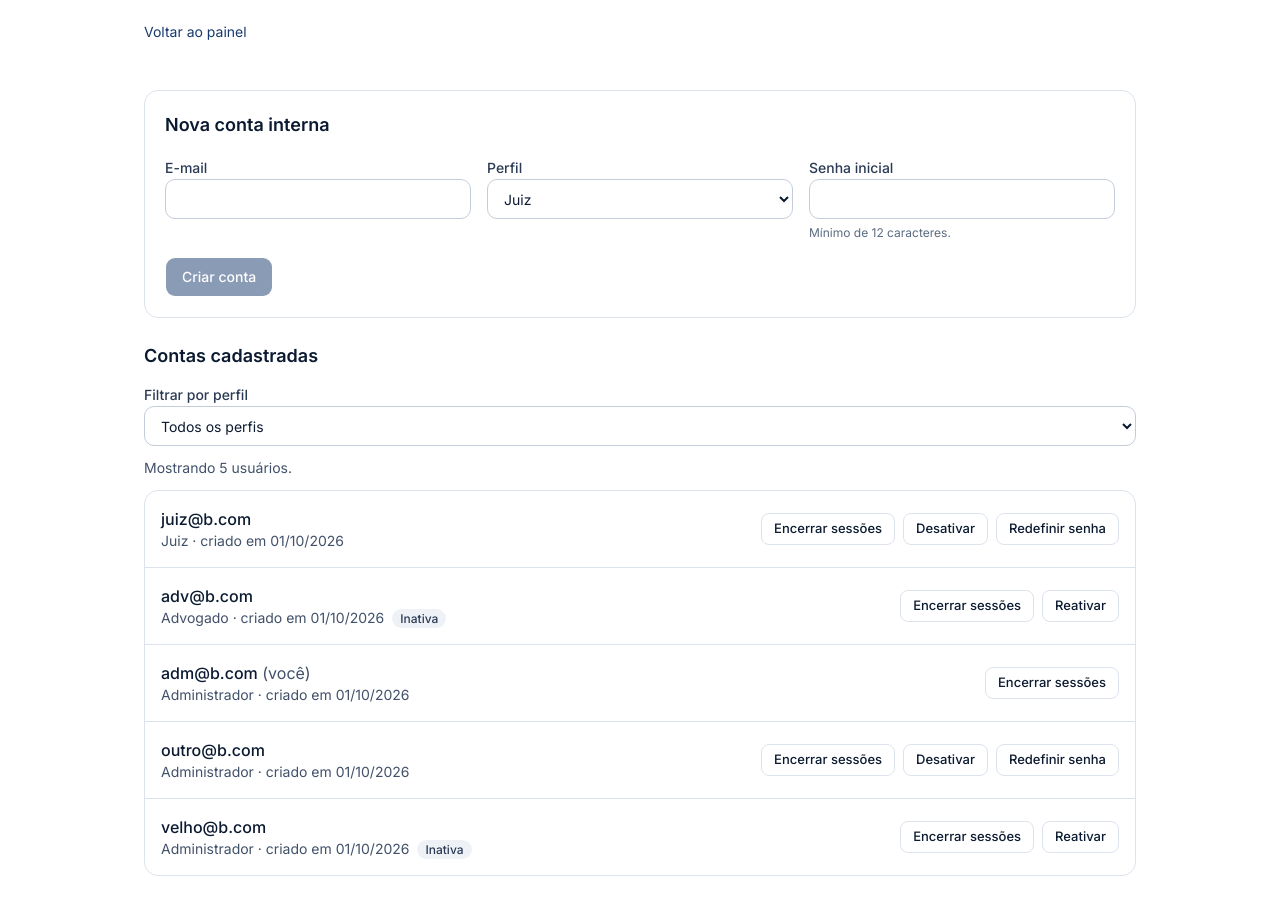
it: UsersAdmin ADMIN target step-up › reactivating an ADMIN needs the two-step confirmation with the password
This screenshot has width=1280, height=899.
(page scrolled)
Expected: the text "juiz@b.com" is shown, [161,509,251,529]
Click the button "Reativar" in the row of "velho@b.com" at {"x": 1081, "y": 837}, box [1042,821,1119,853]
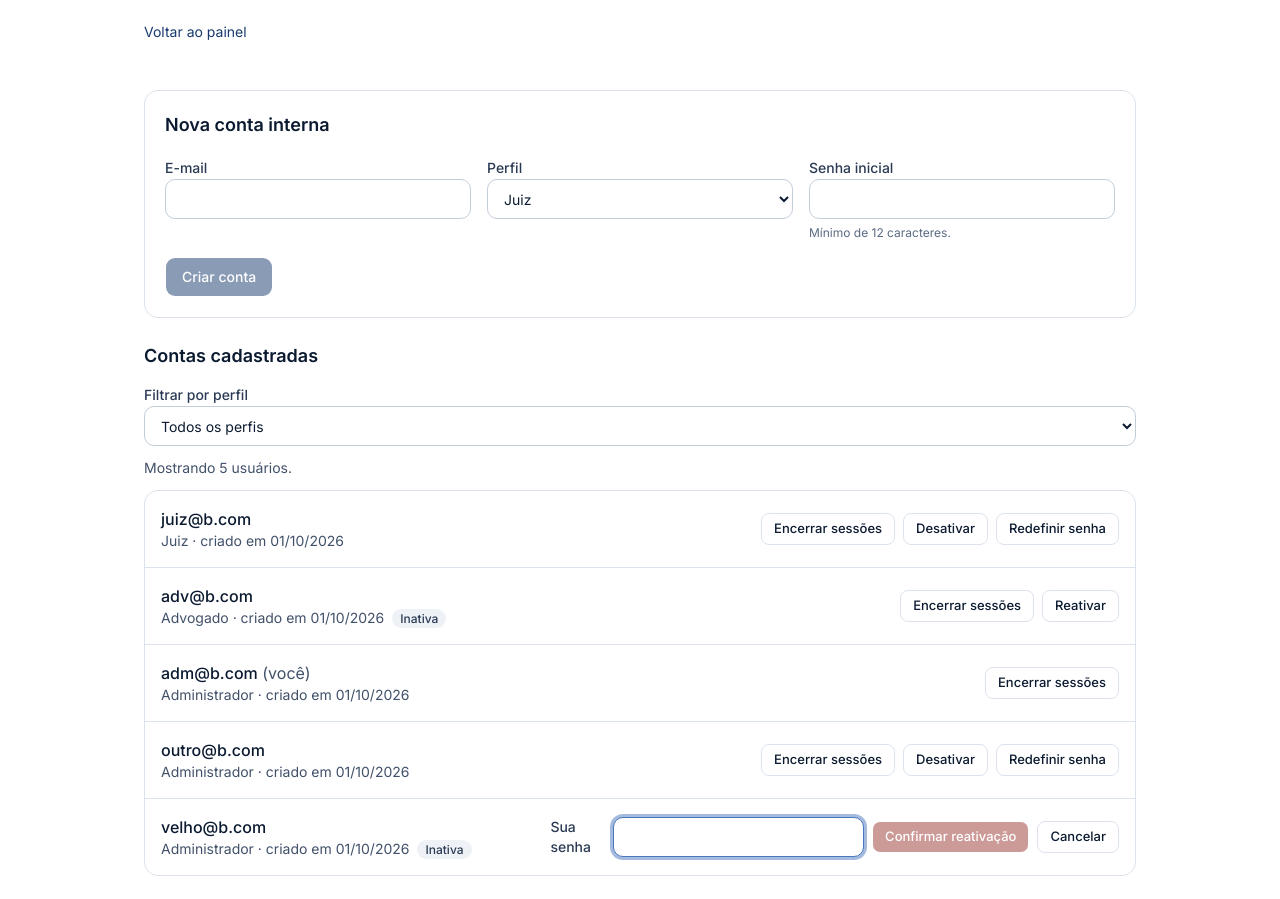
Type "minha-senha" into the password field labelled "Sua senha" at {"x": 739, "y": 837}, box [613,817,864,857]
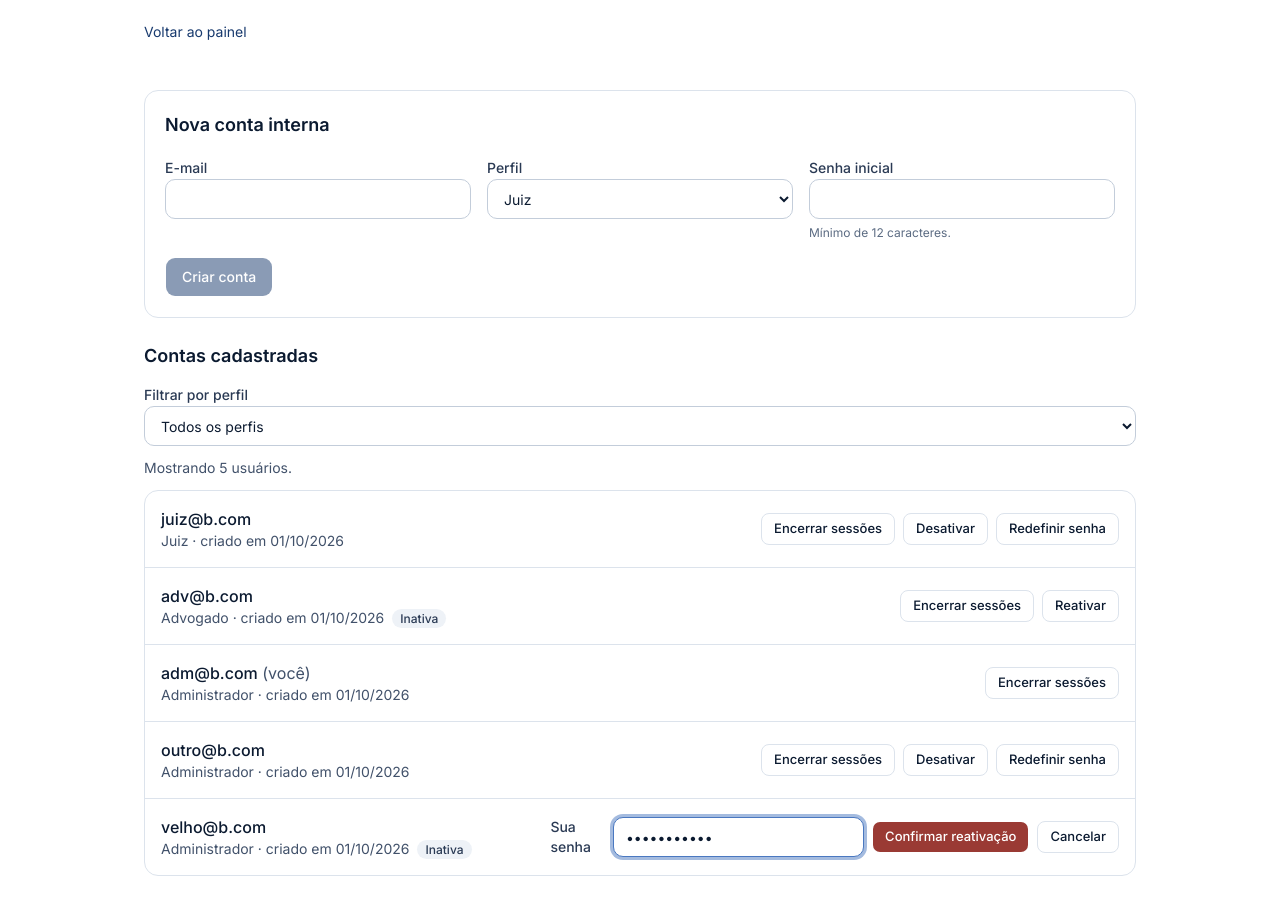
Click the button "Confirmar reativação" at {"x": 951, "y": 837}, box [872,821,1029,853]
(page scrolled)
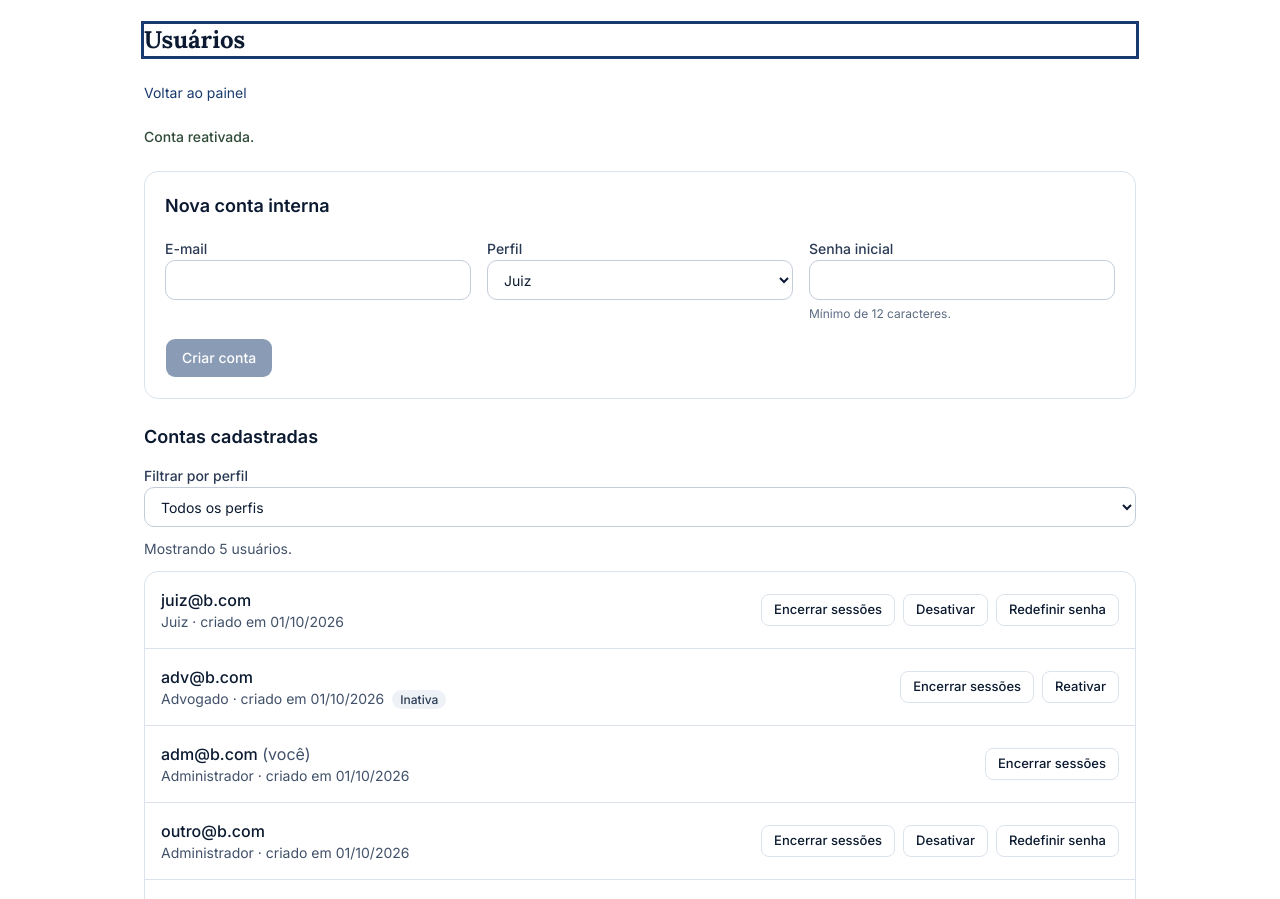
Result: the text "Conta reativada." is shown at [144,128,254,145]
